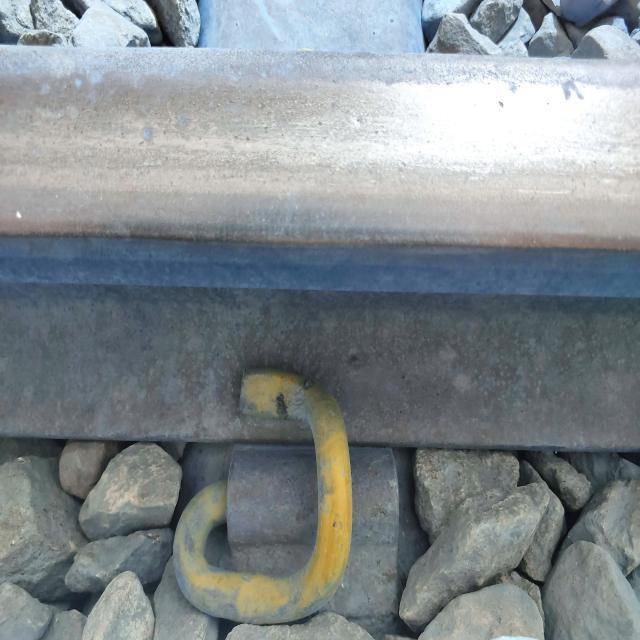Good Fasteners: (159, 360, 405, 622)
